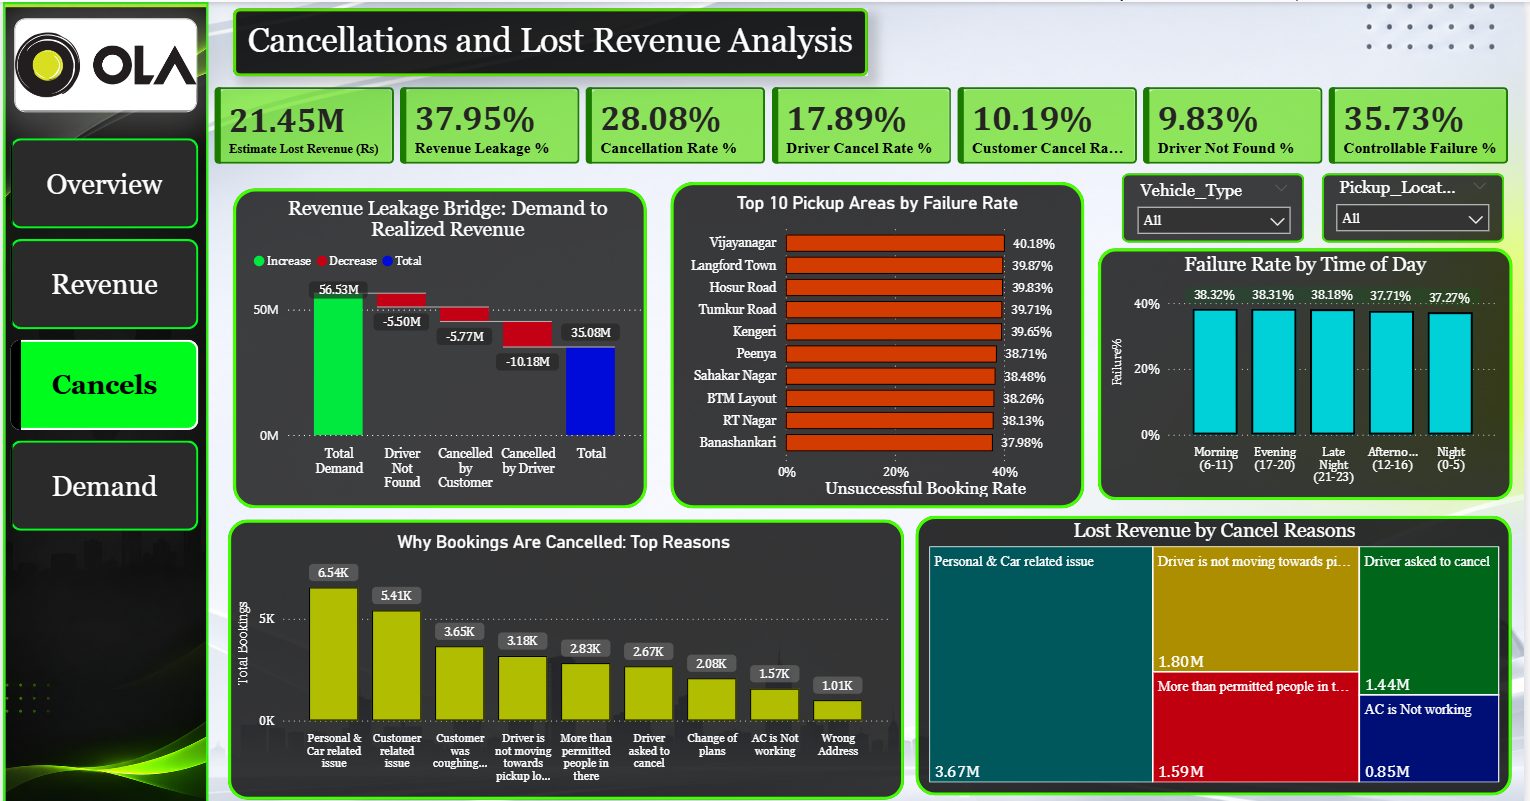

The dashboard page shown, as its layout file describes it:
{"tool":"powerbi","page":{"name":"Cancels","canvas":[1450,768],"ordinal":2},"visuals":[{"type":"group","id":"g1","title":"Group 4","box":[0,0,195.7,768.6],"z":0},{"type":"image","box":[0,0,195.7,768.6],"z":0,"group":"g7"},{"type":"shape","box":[218.6,177.1,394.3,305],"z":0,"group":"g2"},{"type":"shape","box":[1043,235,395,240],"z":0,"group":"g6"},{"type":"shape","box":[214.3,492.9,644.3,267.1],"z":0,"group":"g3"},{"type":"shape","box":[218.7,6,605.2,65],"z":1000},{"type":"image","box":[10.5,16,174.8,89.5],"z":1000,"group":"g7"},{"type":"shape","box":[635.7,171.4,394.3,311],"z":1000,"group":"g5"},{"type":"shape","box":[870,490,568.1,266.7],"z":1000,"group":"g4"},{"type":"cardVisual","fields":{"Data":["olaBookings_SQL_ready.Lost Revenue","olaBookings_SQL_ready.Revenue Leakage %","olaBookings_SQL_ready.Cancellation Rate %","olaBookings_SQL_ready.Driver Cancel Rate %","olaBookings_SQL_ready.Customer Cancel Rate %","olaBookings_SQL_ready.Driver Not Found %","olaBookings_SQL_ready.Controllable Failure %"]},"box":[170,64,1280,107],"z":2000},{"type":"textbox","box":[221.4,13.4,599.8,57.6],"z":3000},{"type":"group","id":"g2","title":"Group 1","box":[218.6,177.1,394.3,305],"z":4000},{"type":"waterfallChart","title":"Revenue Leakage Bridge: Demand to Realized Revenue","fields":{"Category":["waterfall_steps.Step"],"Y":["olaBookings_SQL_ready.Waterfall Value"]},"box":[232.4,185.3,380.5,287],"z":4000,"group":"g2"},{"type":"lineClusteredColumnComboChart","title":"Why Bookings Are Cancelled: Top Reasons","fields":{"Category":["olaBookings_SQL_ready (2).Cancel Reasons"],"Y":["olaBookings_SQL_ready.Total Bookings"]},"box":[219.6,503.4,630,248.1],"z":4001,"group":"g3"},{"type":"group","id":"g3","title":"Group 2","box":[214.3,492.9,644.3,267.1],"z":5000},{"type":"group","id":"g4","title":"Group 3","box":[870,490,568.6,267.1],"z":6000},{"type":"treemap","fields":{"Group":["olaBookings_SQL_ready (2).Cancel Reasons"],"Values":["olaBookings_SQL_ready.Lost Revenue"]},"box":[877.9,493.1,552.8,255.7],"z":6000,"group":"g4"},{"type":"group","id":"g5","title":"Group 6","box":[635.7,171.4,394.7,311],"z":7000},{"type":"clusteredBarChart","title":"Top 10 Pickup Areas by Failure Rate","fields":{"Category":["olaBookings_SQL_ready.Pickup_Location"],"Y":["olaBookings_SQL_ready.Unsuccessful Booking Rate"]},"box":[636.1,180.8,394.3,295.7],"z":7000,"group":"g5"},{"type":"group","id":"g6","title":"Group 7","box":[1043,235,395,240],"z":8000},{"type":"shape","box":[1065.7,163.5,174,66.1],"z":9000},{"type":"clusteredColumnChart","title":"Failure Rate by Time of Day","fields":{"Category":["olaBookings_SQL_ready.Time Slot"],"Y":["olaBookings_SQL_ready.Failure %"]},"box":[1051.7,240.1,378,228.1],"z":9000,"group":"g6"},{"type":"group","id":"g7","title":"Group 8","box":[0,0,195.7,768.6],"z":9001,"group":"g1"},{"type":"shape","box":[1256.1,162.9,174,66.1],"z":10000},{"type":"slicer","fields":{"Values":["olaBookings_SQL_ready.Pickup_Location"]},"box":[1260,162.9,165.7,62.9],"z":11000},{"type":"slicer","fields":{"Values":["olaBookings_SQL_ready.Vehicle_Type"]},"box":[1071,165.5,166.1,60.2],"z":12000},{"type":"pageNavigator","box":[7,130.3,179.4,376.9],"z":13000},{"type":"actionButton","box":[9.8,419,175.2,88.3],"z":14000},{"type":"actionButton","box":[9.8,225,175.2,88],"z":15000},{"type":"actionButton","box":[8.4,130.3,175.2,88.3],"z":16000}]}

Visuals, with their boxes in screenshot pixels (x1, y1, x2, y2), scaled from the page's 1450x768 canvas onto the 1530x801 screenshot:
"Group 4" group: pyautogui.locateOnScreen(0, 0, 206, 800)
image: pyautogui.locateOnScreen(0, 0, 206, 800)
shape: pyautogui.locateOnScreen(231, 185, 647, 503)
shape: pyautogui.locateOnScreen(1101, 245, 1517, 495)
shape: pyautogui.locateOnScreen(226, 514, 906, 793)
shape: pyautogui.locateOnScreen(231, 6, 869, 74)
image: pyautogui.locateOnScreen(11, 17, 196, 110)
shape: pyautogui.locateOnScreen(671, 179, 1087, 503)
shape: pyautogui.locateOnScreen(918, 511, 1517, 789)
cardVisual - olaBookings_SQL_ready.Lost Revenue x olaBookings_SQL_ready.Revenue Leakage %: pyautogui.locateOnScreen(179, 67, 1529, 178)
textbox: pyautogui.locateOnScreen(234, 14, 867, 74)
"Group 1" group: pyautogui.locateOnScreen(231, 185, 647, 503)
"Revenue Leakage Bridge: Demand to Realized Revenue" waterfallChart: pyautogui.locateOnScreen(245, 193, 647, 493)
"Why Bookings Are Cancelled: Top Reasons" lineClusteredColumnComboChart: pyautogui.locateOnScreen(232, 525, 896, 784)
"Group 2" group: pyautogui.locateOnScreen(226, 514, 906, 793)
"Group 3" group: pyautogui.locateOnScreen(918, 511, 1518, 790)
treemap - olaBookings_SQL_ready (2).Cancel Reasons x olaBookings_SQL_ready.Lost Revenue: pyautogui.locateOnScreen(926, 514, 1510, 781)
"Group 6" group: pyautogui.locateOnScreen(671, 179, 1087, 503)
"Top 10 Pickup Areas by Failure Rate" clusteredBarChart: pyautogui.locateOnScreen(671, 189, 1087, 497)
"Group 7" group: pyautogui.locateOnScreen(1101, 245, 1517, 495)
shape: pyautogui.locateOnScreen(1124, 171, 1308, 239)
"Failure Rate by Time of Day" clusteredColumnChart: pyautogui.locateOnScreen(1110, 250, 1509, 488)
"Group 8" group: pyautogui.locateOnScreen(0, 0, 206, 800)
shape: pyautogui.locateOnScreen(1325, 170, 1509, 239)
slicer - olaBookings_SQL_ready.Pickup_Location: pyautogui.locateOnScreen(1330, 170, 1504, 236)
slicer - olaBookings_SQL_ready.Vehicle_Type: pyautogui.locateOnScreen(1130, 173, 1305, 235)
pageNavigator: pyautogui.locateOnScreen(7, 136, 197, 529)
actionButton: pyautogui.locateOnScreen(10, 437, 195, 529)
actionButton: pyautogui.locateOnScreen(10, 235, 195, 326)
actionButton: pyautogui.locateOnScreen(9, 136, 194, 228)
